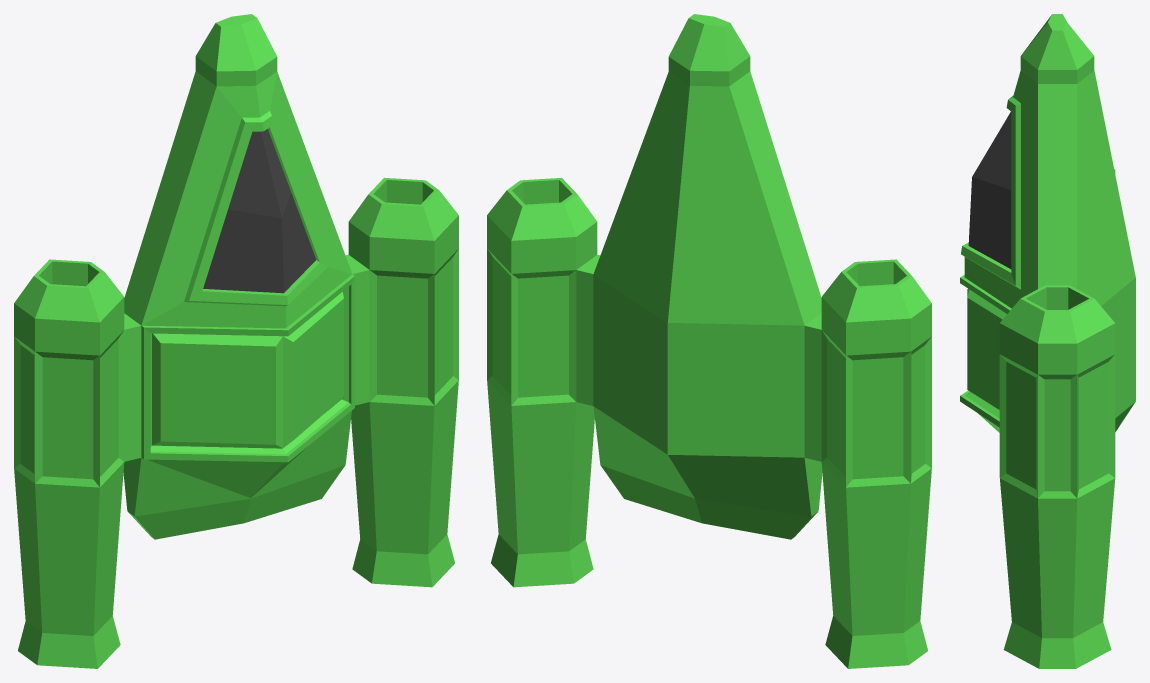
The model's file is Spaceship.fbx.
The picture shows the model from 3 angles, left to right: view 1: azimuth 30°, elevation 25°; view 2: azimuth 150°, elevation 25°; view 3: azimuth 270°, elevation 25°; orthographic projection. The views are drawn at different scales.
Visible parts, largest first — view 1: Plane; view 2: Plane; view 3: Plane.
Boxes of the visible parts, left/top/right/bottom form: Plane: left=14, top=14, right=458, bottom=668; Plane: left=487, top=14, right=931, bottom=668; Plane: left=960, top=14, right=1135, bottom=668.
Bounding box in the file's own units: 402 × 531 × 154.
